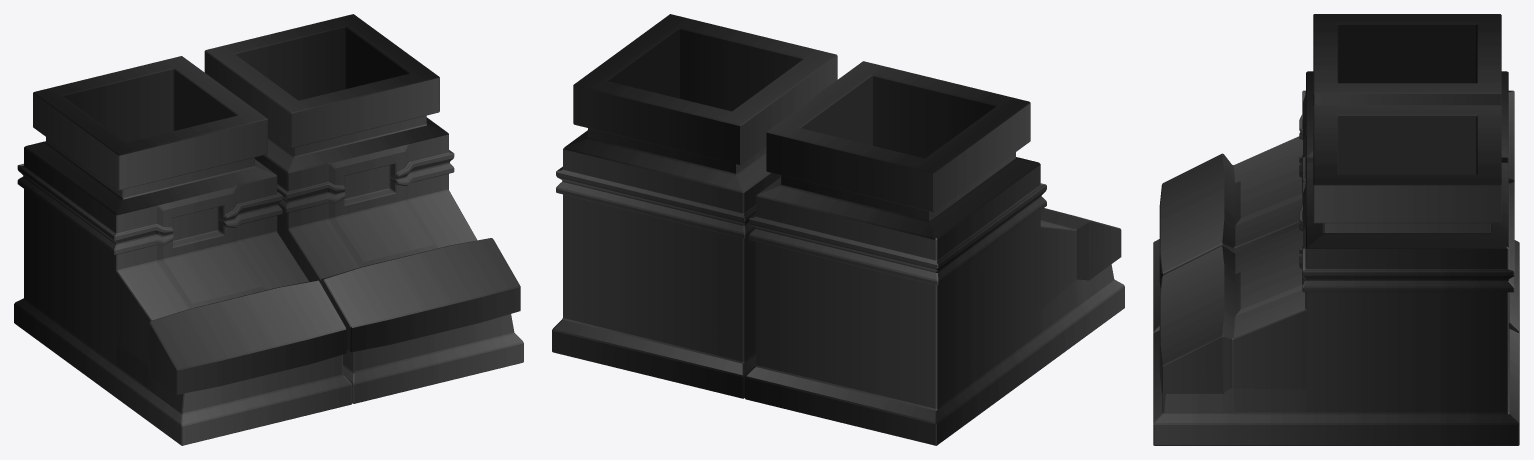
File: mass_boots.fbx
3 views of the same model, side by side, from view 1: azimuth 30°, elevation 25°; view 2: azimuth 150°, elevation 25°; view 3: azimuth 270°, elevation 25° (orthographic). The views are drawn at different scales.
Parts seen in each view (by area): view 1: Cube.002; view 2: Cube.002; view 3: Cube.002.
Part boxes in pixels (<box>): Cube.002: <box>14,14,523,445</box>; Cube.002: <box>552,14,1124,445</box>; Cube.002: <box>1153,14,1519,445</box>.
Size of the model in its own units: 48.01 by 31.36 by 40.67.
